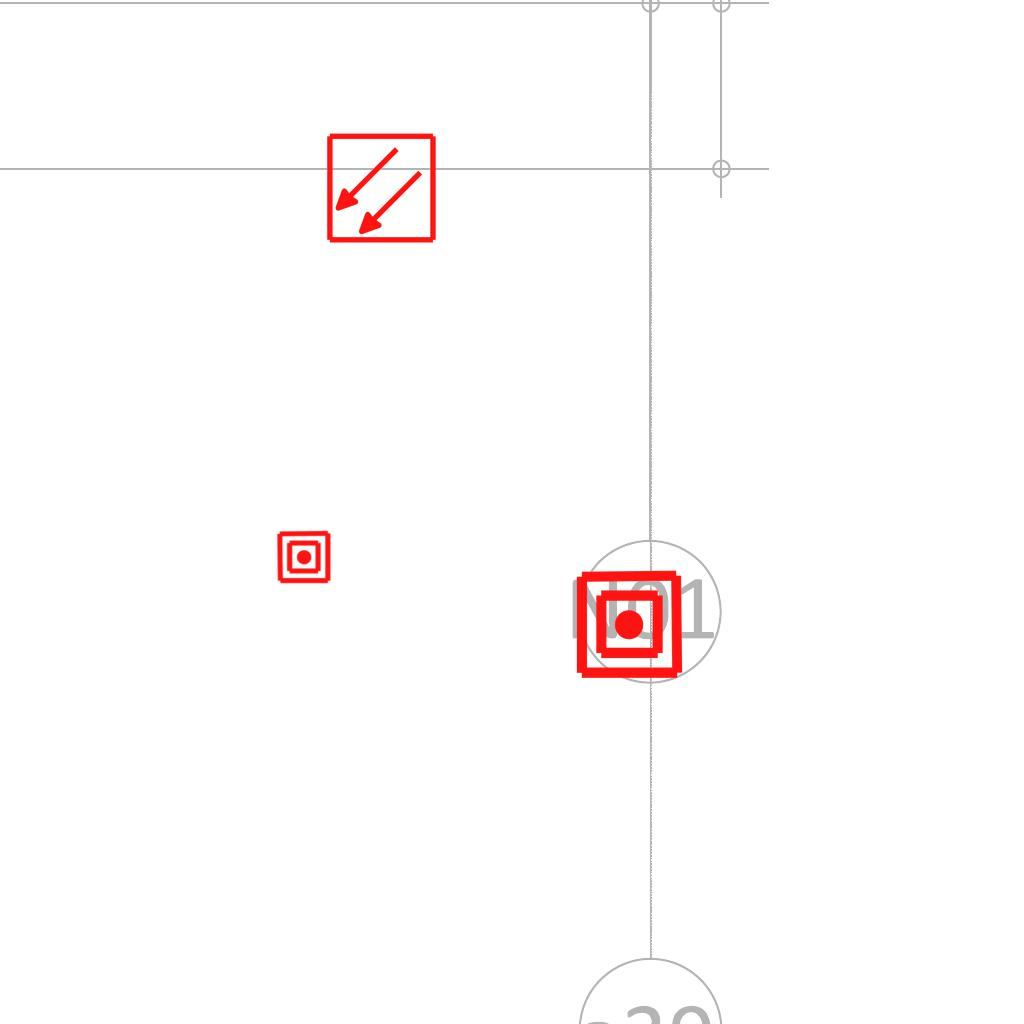NAM-Nichtautomatischer_Melder: (573, 568, 686, 681), (276, 529, 332, 585)
RMO_Rauchmelder_optischer: (325, 132, 438, 245)
